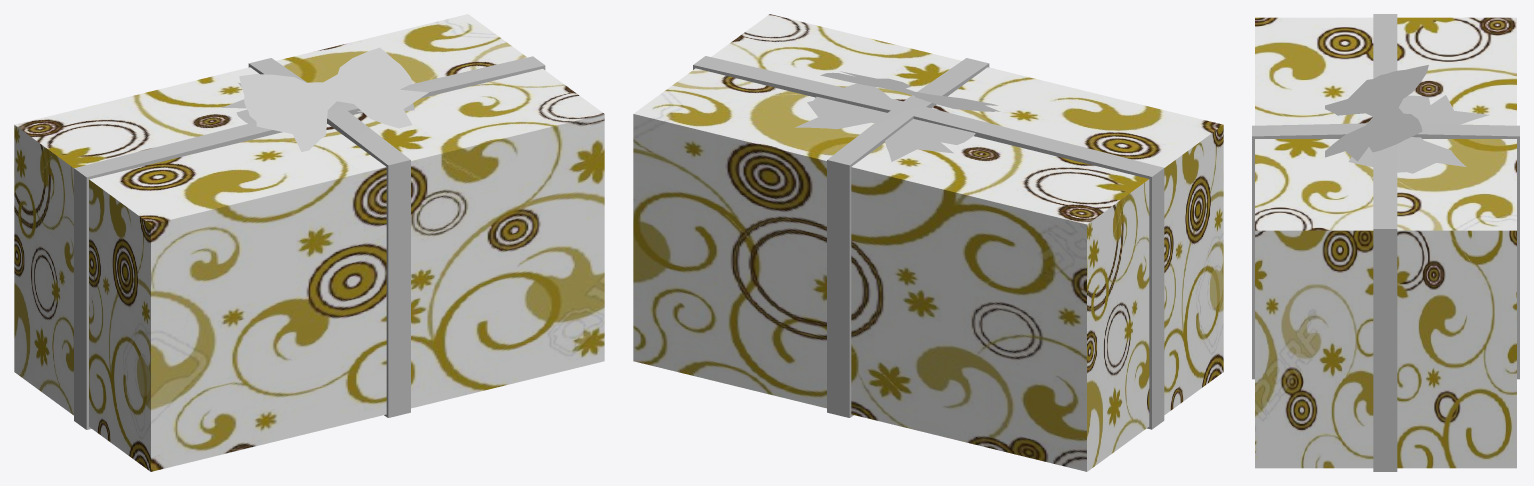
Rendered from cadeau.fbx.
3 renders of one model, left to right at view 1: azimuth 30°, elevation 25°; view 2: azimuth 150°, elevation 25°; view 3: azimuth 270°, elevation 25°, orthographic. The views are drawn at different scales.
Visible parts, largest first — view 1: pCube2; view 2: pCube2; view 3: pCube2.
Part boxes in pixels (x1,y1,x2,y2): pCube2: (14,14,604,471); pCube2: (633,14,1223,471); pCube2: (1252,14,1519,471).
Size of the model in its own units: 9.48 by 5.74 by 4.99.
